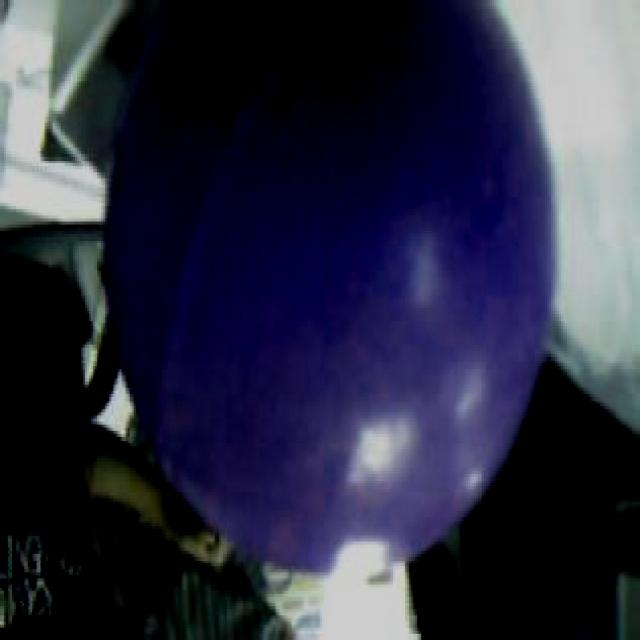BallPurple: (103, 1, 555, 577)
